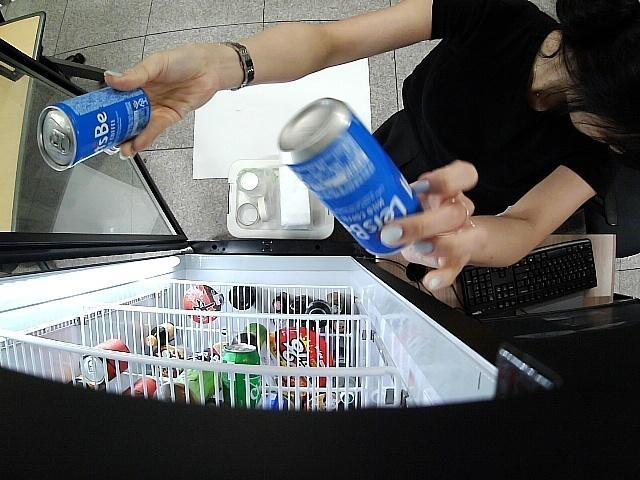15_letsbe: (276, 96, 424, 259), (36, 85, 152, 173)
